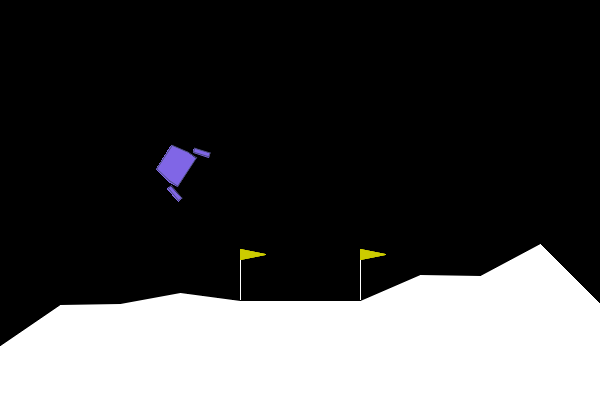lander: (146, 131, 212, 203)
